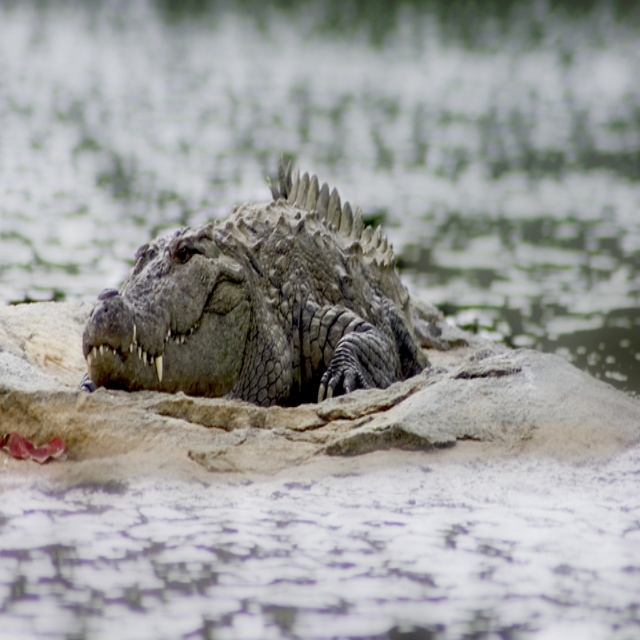Crocodile: (77, 147, 423, 402)
